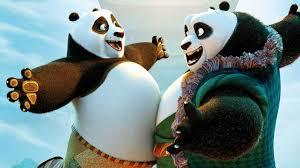KungfuPanda: (18, 4, 166, 163)
